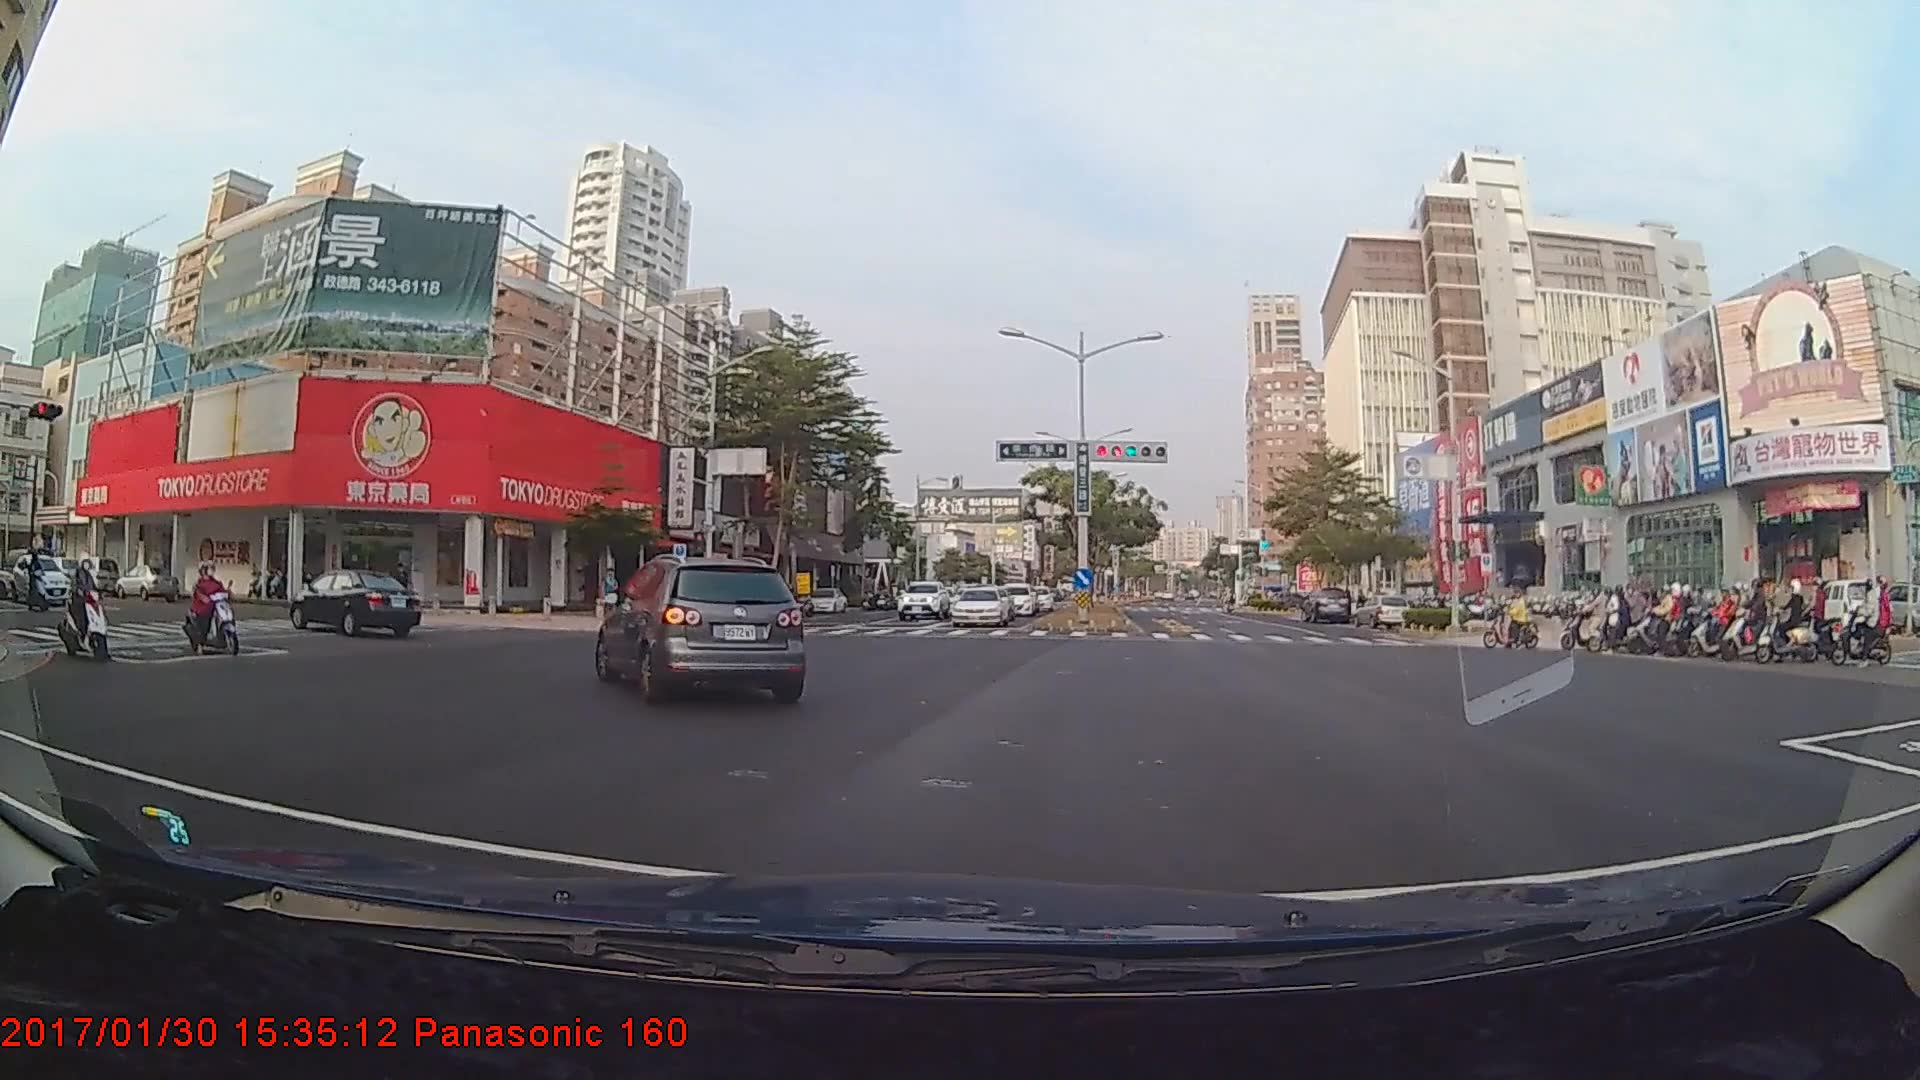rider: (1827, 578, 1896, 668), (55, 555, 115, 661), (179, 561, 242, 657), (1702, 584, 1773, 662), (1717, 584, 1776, 659), (1576, 595, 1649, 655), (1480, 585, 1542, 652), (1632, 586, 1689, 657), (1646, 592, 1694, 657)
vehicle: (593, 553, 805, 703), (289, 568, 421, 638), (11, 553, 71, 603), (948, 588, 1010, 629), (39, 555, 97, 593), (894, 580, 950, 620), (1298, 586, 1349, 622), (996, 581, 1036, 616), (802, 587, 847, 614)
